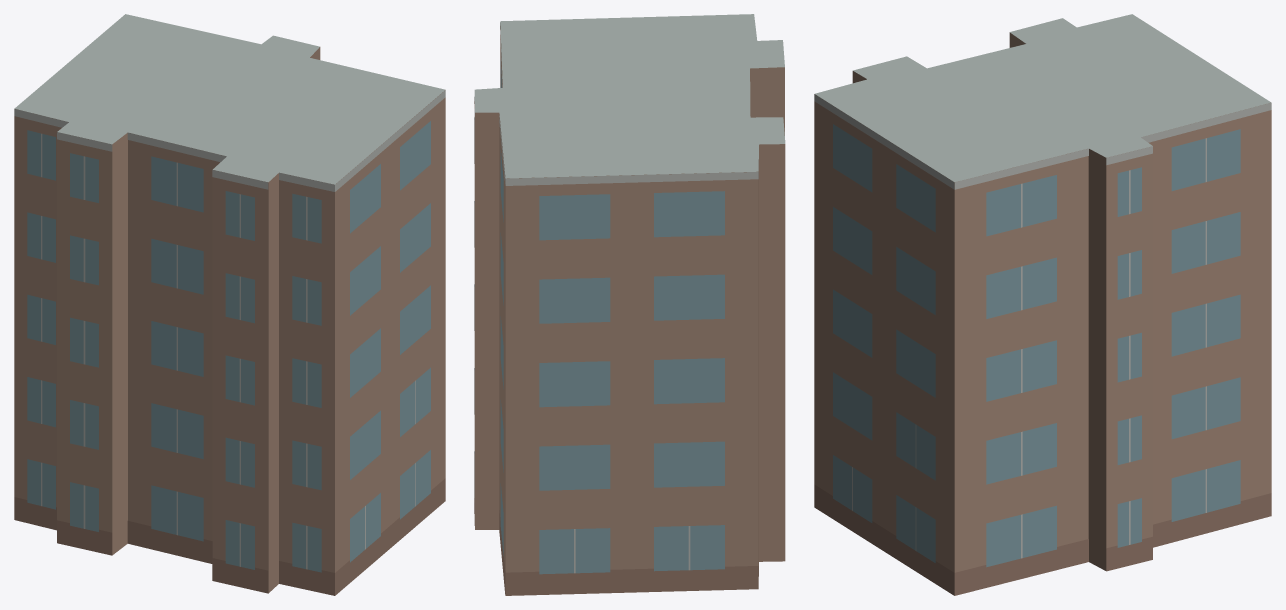
Rendered from survey-upis-32762789.glb.
The picture shows the model from 3 angles, left to right: view 1: azimuth 30°, elevation 25°; view 2: azimuth 150°, elevation 25°; view 3: azimuth 270°, elevation 25°; orthographic projection.
Visible parts, largest first — view 1: survey-upis-32762789.tmp; view 2: survey-upis-32762789.tmp; view 3: survey-upis-32762789.tmp.
Boxes of the visible parts, box(x1,y1,x2,y2) form: survey-upis-32762789.tmp: box(14, 14, 445, 595); survey-upis-32762789.tmp: box(474, 14, 785, 595); survey-upis-32762789.tmp: box(814, 14, 1271, 595).
Size of the model in its own units: 11.79 by 13.5 by 13.53.
